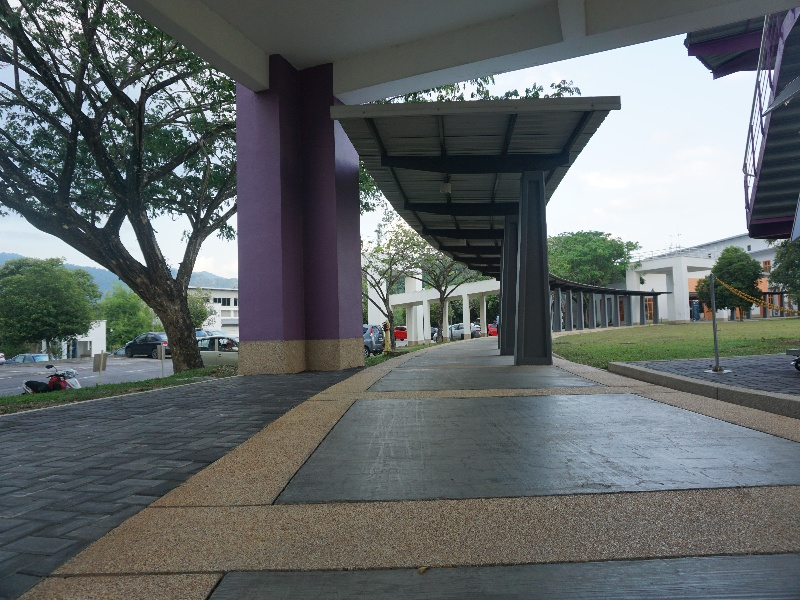Block D Pillar 6: (9, 5, 800, 520)
pillar: (227, 52, 371, 383), (505, 165, 558, 374)
